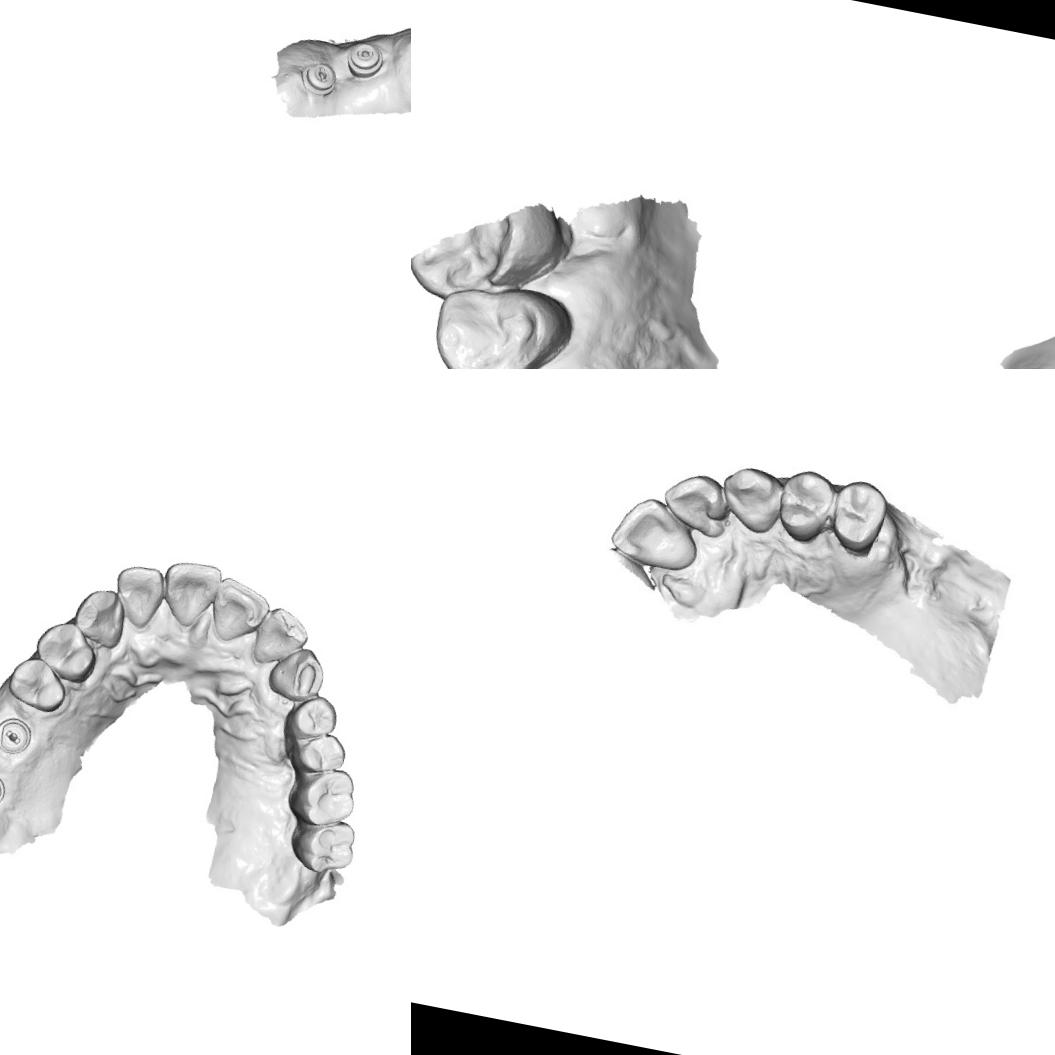canine: (716, 461, 791, 536), (263, 640, 330, 707), (68, 582, 130, 650)
implant_minus: (342, 37, 388, 82), (298, 57, 340, 98), (0, 713, 37, 758)
incisor: (605, 490, 705, 576), (659, 466, 737, 537), (155, 554, 224, 634), (204, 574, 276, 650), (248, 602, 313, 672), (107, 560, 168, 632)
molar: (281, 759, 361, 834), (285, 810, 361, 880)
premolar: (422, 269, 583, 369), (770, 462, 840, 547), (822, 473, 890, 558), (28, 615, 102, 687), (2, 652, 73, 716), (279, 688, 342, 745), (291, 726, 350, 780)
